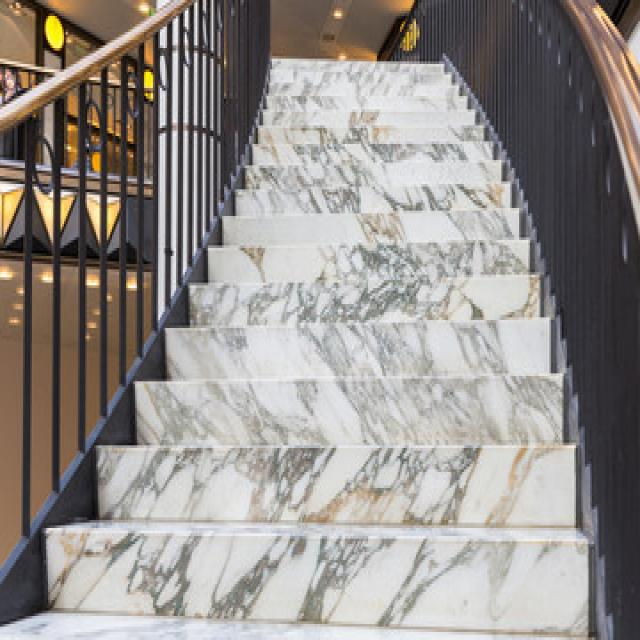stair: (46, 59, 588, 635)
